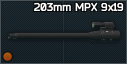MPX 9x19 203mm barrel: (0, 0, 127, 64)
